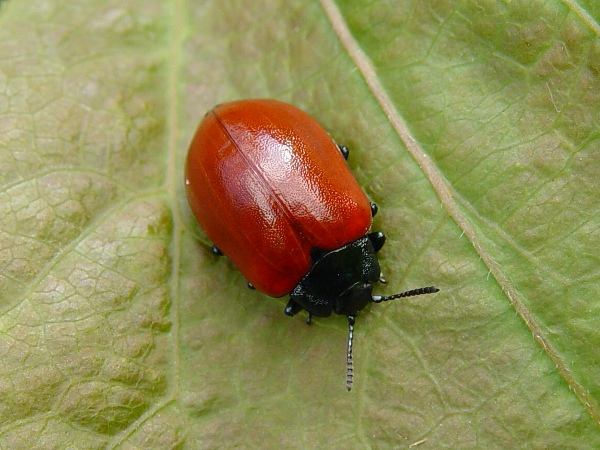Chrysomela_populi: (180, 92, 445, 395)
